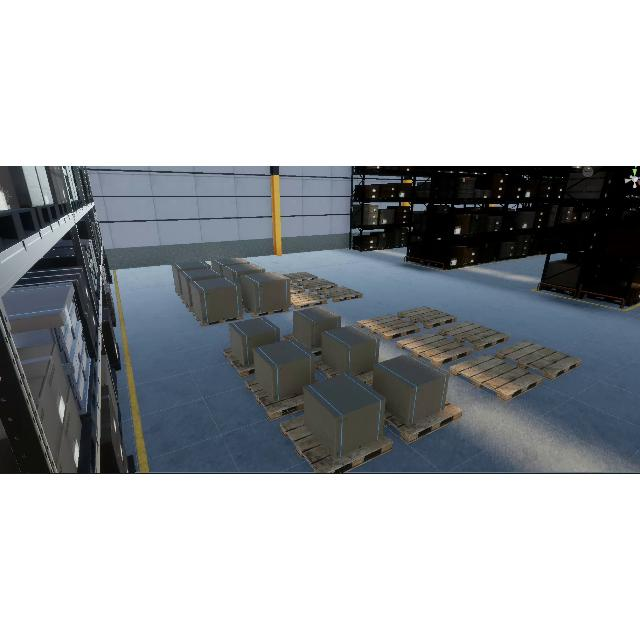wooden_pallet: (279, 414, 393, 474), (449, 354, 544, 401), (383, 398, 463, 443), (494, 340, 582, 380), (397, 332, 473, 368), (243, 377, 303, 420), (438, 320, 509, 351), (357, 314, 421, 341), (397, 305, 457, 329), (221, 347, 254, 377), (317, 286, 363, 303), (192, 311, 244, 326), (242, 303, 289, 318), (297, 278, 338, 293), (291, 292, 327, 309), (281, 271, 318, 283), (290, 282, 306, 295)
